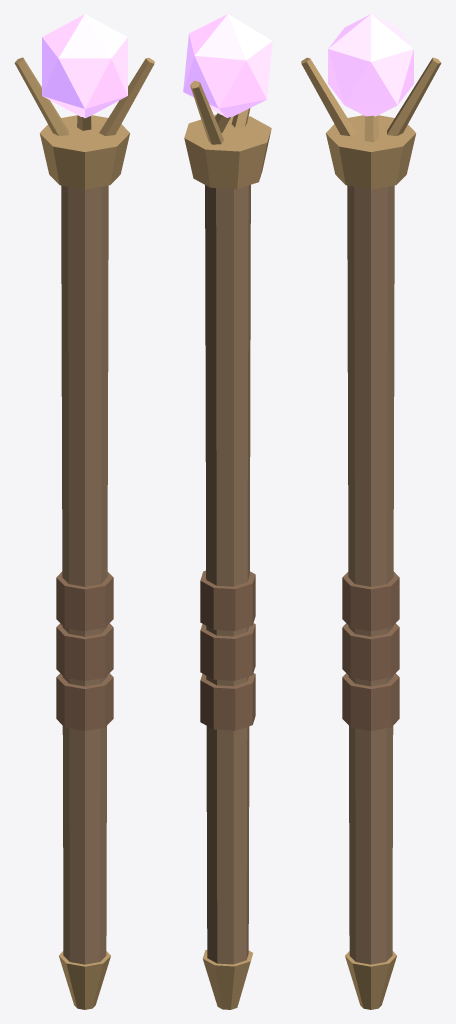
File: vara_arcana.glb
3 views of the same model, side by side, from view 1: azimuth 90°, elevation 25°; view 2: azimuth 150°, elevation 25°; view 3: azimuth 270°, elevation 25° (orthographic).
Visible parts, largest first — view 1: vara_arcana; view 2: vara_arcana; view 3: vara_arcana.
Boxes of the visible parts, left/top/right/bottom form: vara_arcana: left=14, top=14, right=154, bottom=1009; vara_arcana: left=183, top=14, right=272, bottom=1009; vara_arcana: left=301, top=14, right=441, bottom=1009.
Bounding box in the file's own units: 0.0988 × 1.19 × 0.1529.
